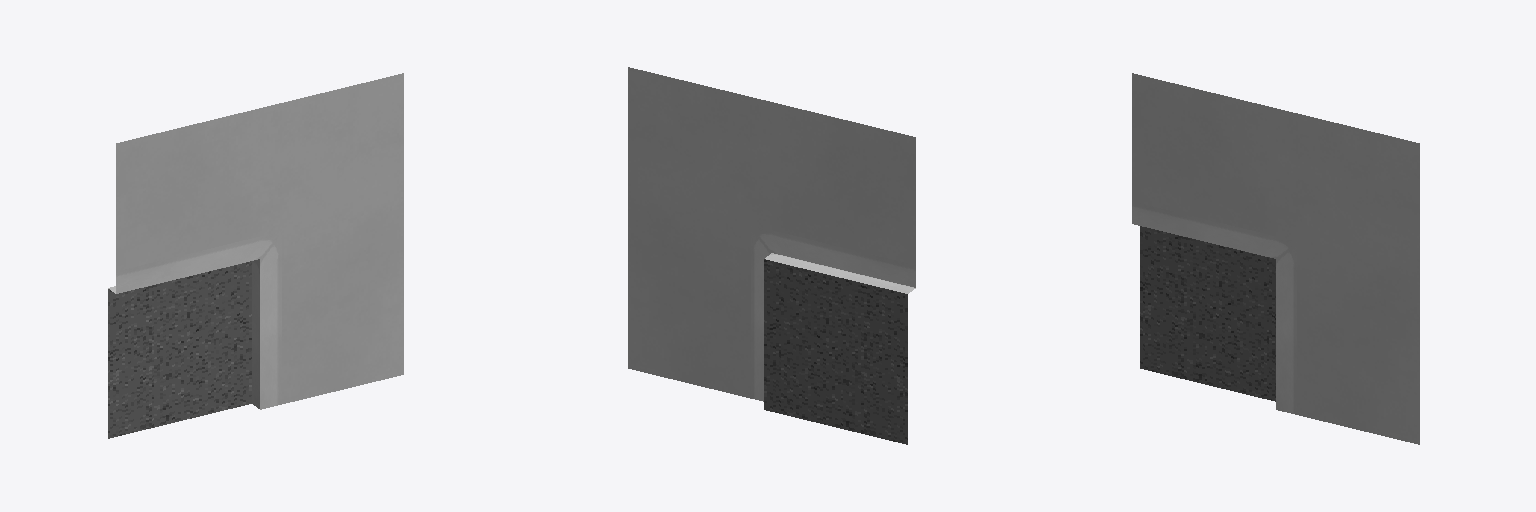
3 renders of one model, left to right at view 1: azimuth 30°, elevation 25°; view 2: azimuth 150°, elevation 25°; view 3: azimuth 330°, elevation 25°, orthographic.
Parts seen in each view (by area): view 1: Plane; view 2: Plane; view 3: Plane.
Boxes of the visible parts, <box> form: Plane: <box>108,73,403,438</box>; Plane: <box>628,67,915,444</box>; Plane: <box>1132,73,1419,444</box>.
Bounding box in the file's own units: 2 × 2 × 0.1.
1 materials, 1 textured.